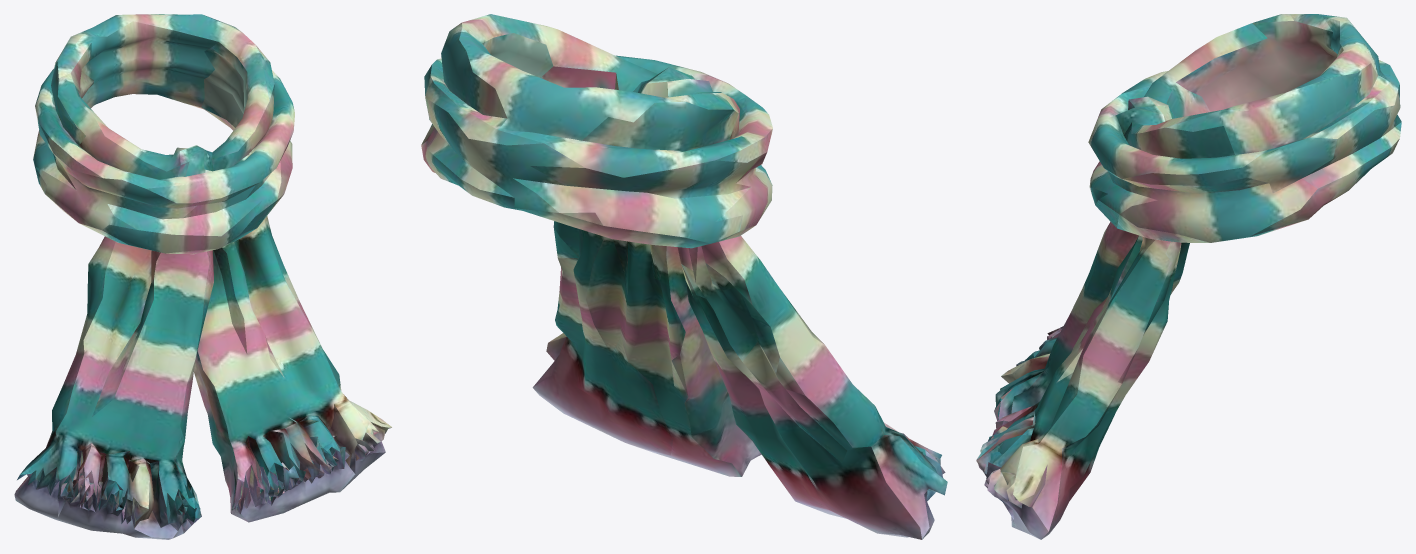
The model's file is yarn_scarf.glb.
3 views of the same model, side by side, from view 1: azimuth 30°, elevation 25°; view 2: azimuth 150°, elevation 25°; view 3: azimuth 270°, elevation 25° (orthographic). The views are drawn at different scales.
Parts seen in each view (by area): view 1: yarn_scarf; view 2: yarn_scarf; view 3: yarn_scarf.
Boxes of the visible parts, box(x1,y1,x2,y2) form: yarn_scarf: box(14, 14, 391, 539); yarn_scarf: box(421, 14, 947, 539); yarn_scarf: box(976, 14, 1401, 539).
Bounding box in the file's own units: 0.8844 × 1 × 0.8415.
1 material, 1 textured.
